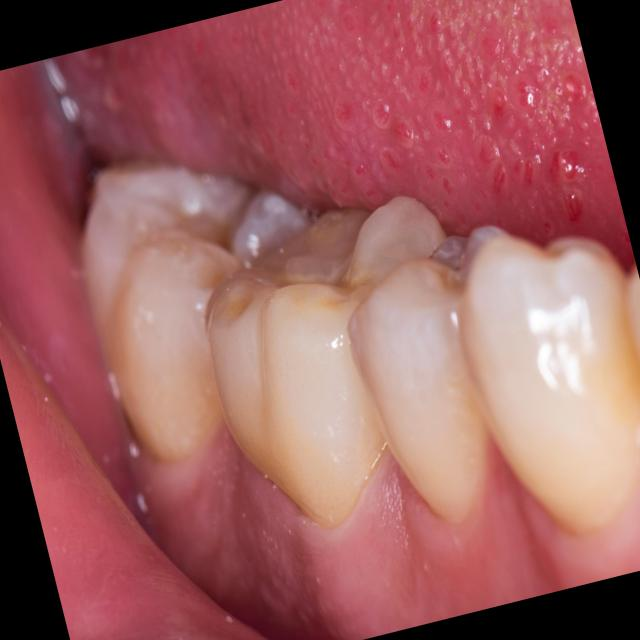Tooth: (206, 194, 447, 524), (80, 166, 311, 458), (460, 236, 640, 531), (348, 225, 512, 522)
